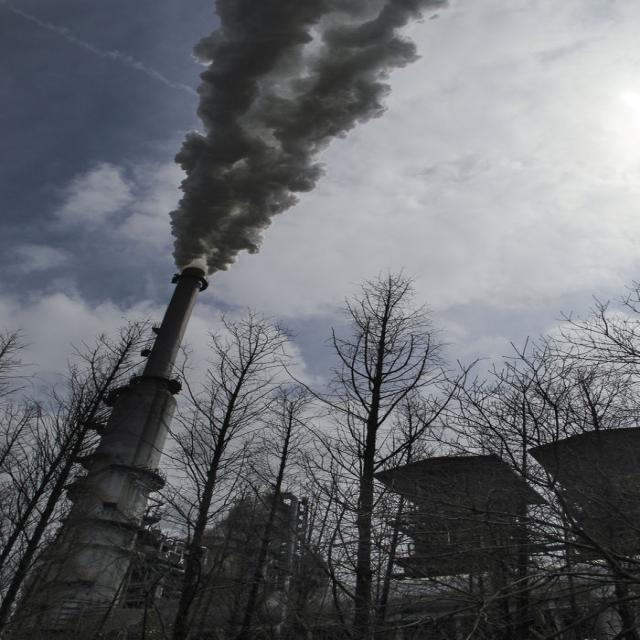Smoke: (170, 0, 445, 268)
